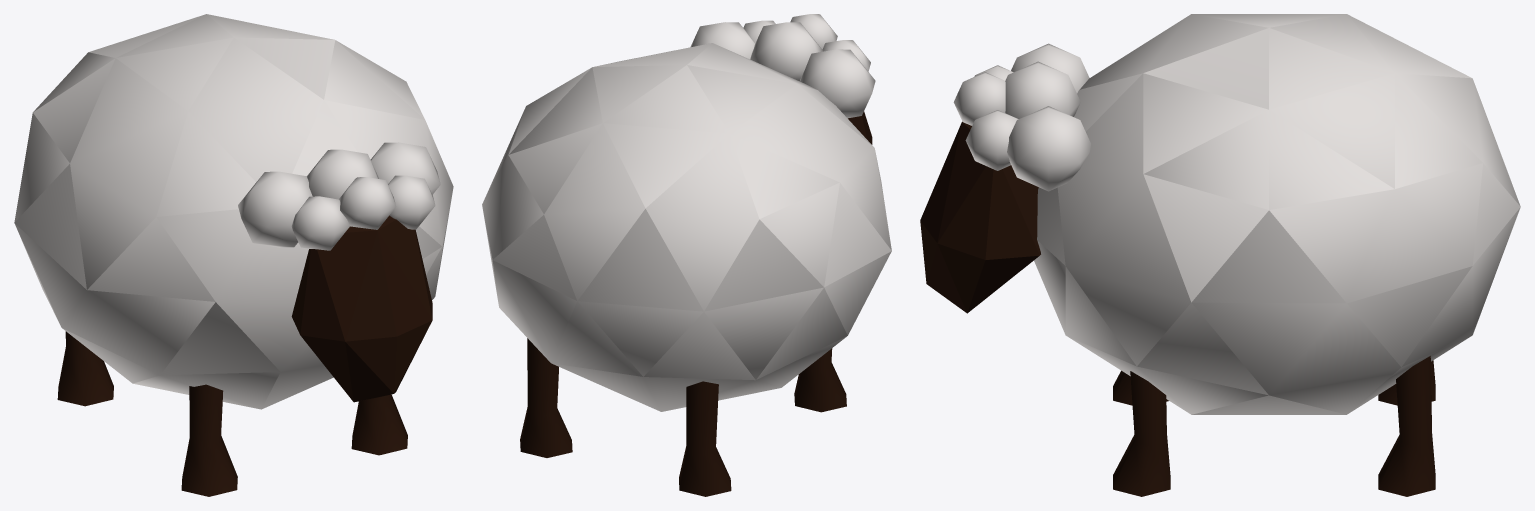
The model's file is SHEEP.fbx.
The picture shows the model from 3 angles, left to right: view 1: azimuth 30°, elevation 25°; view 2: azimuth 150°, elevation 25°; view 3: azimuth 270°, elevation 25°; orthographic projection. The views are drawn at different scales.
Parts seen in each view (by area): view 1: GeoSphere006; view 2: GeoSphere006; view 3: GeoSphere006.
Boxes of the visible parts, bbox=[...] form: GeoSphere006: bbox=[14, 14, 453, 496]; GeoSphere006: bbox=[482, 14, 891, 496]; GeoSphere006: bbox=[920, 14, 1520, 496].
Bounding box in the file's own units: 1.44 × 1.43 × 1.91.
